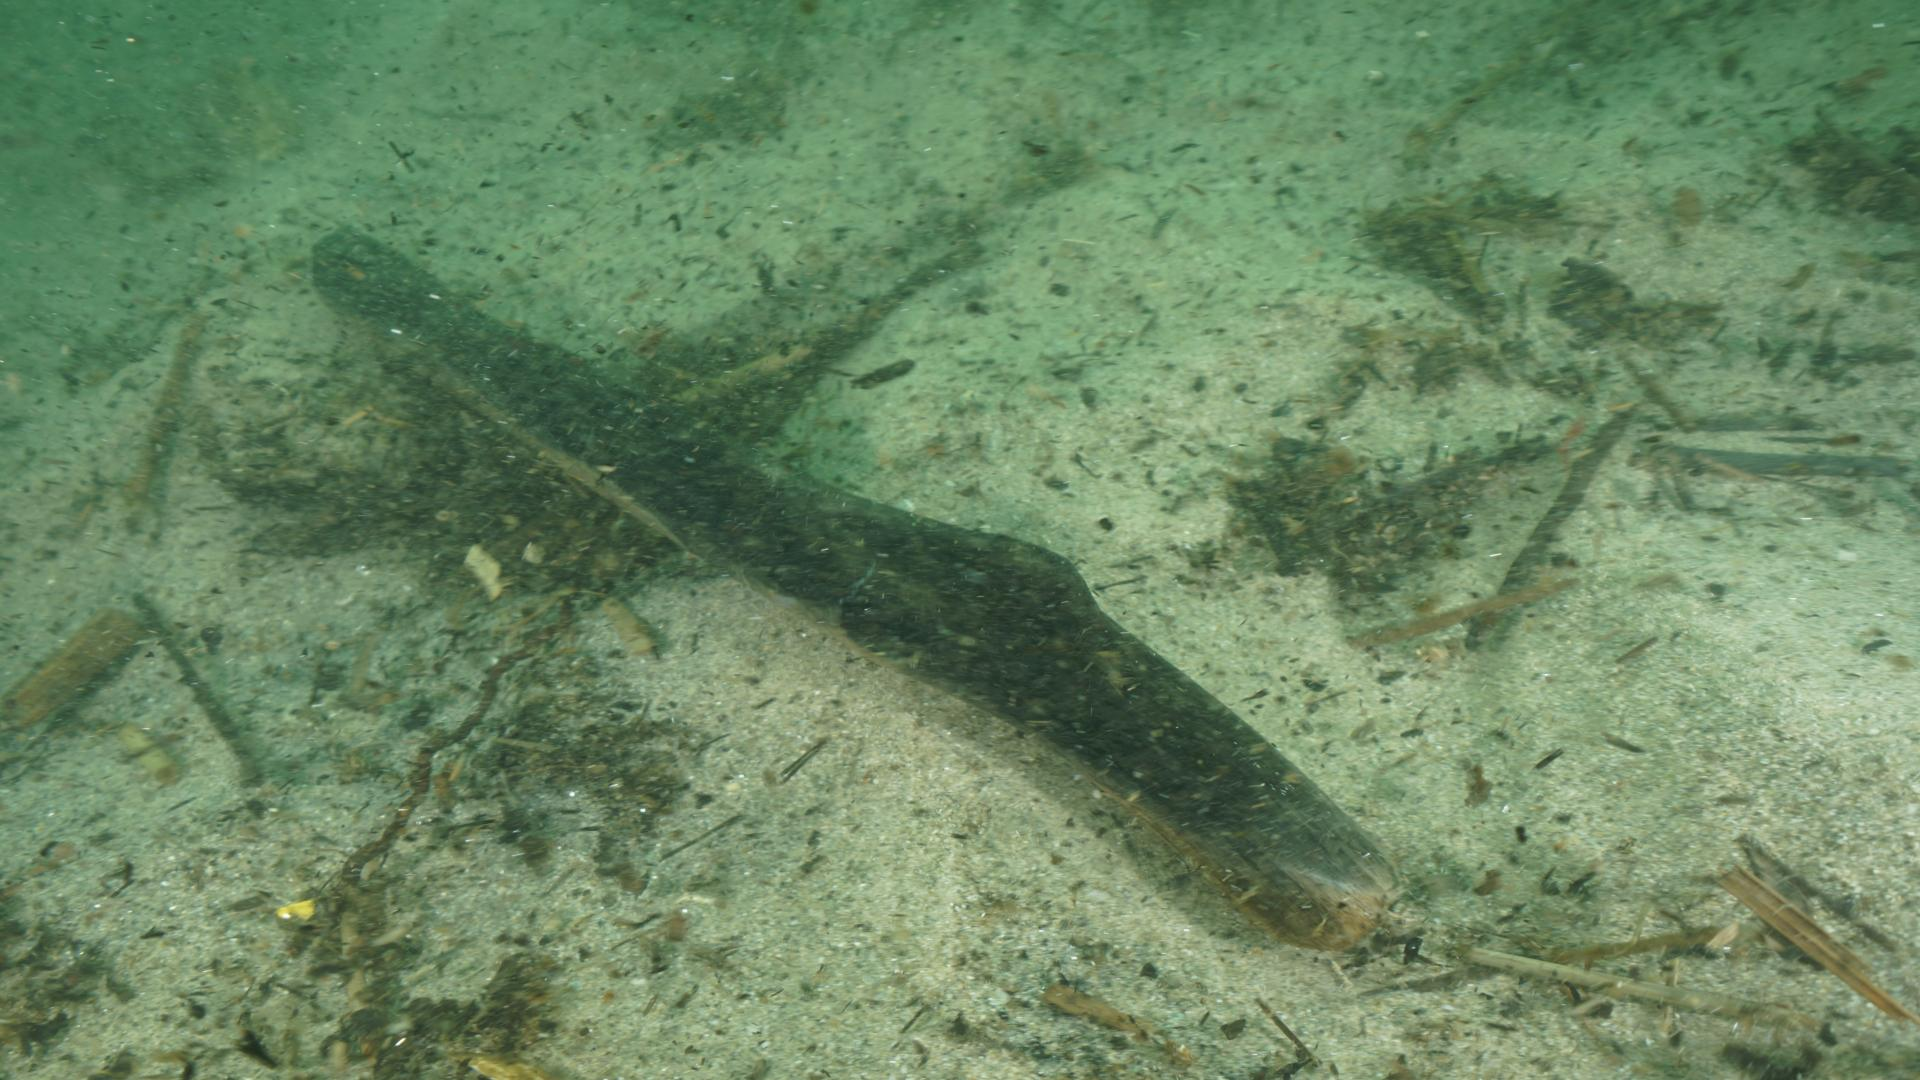wood: (309, 224, 1403, 955)
